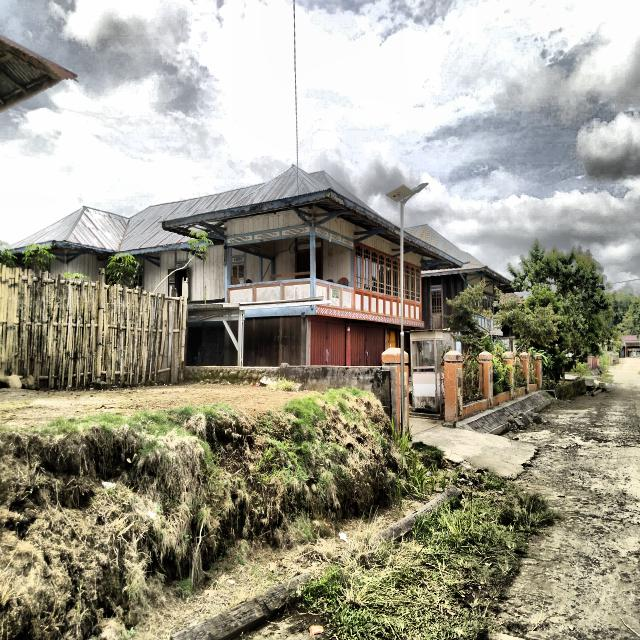column: (301, 312, 311, 366)
door: (297, 251, 321, 279), (387, 330, 396, 349)
ornamen: (282, 281, 310, 300), (254, 283, 280, 302), (228, 286, 252, 303), (330, 285, 342, 309), (316, 282, 329, 301), (343, 288, 354, 310), (355, 291, 363, 312), (363, 293, 370, 313), (371, 294, 378, 314), (379, 296, 385, 316), (386, 298, 392, 317), (404, 302, 410, 319), (393, 299, 398, 317), (416, 304, 421, 321), (411, 303, 415, 320)
roof: (10, 164, 401, 257), (403, 224, 512, 286), (403, 230, 463, 271)
wall: (355, 235, 401, 318), (243, 316, 301, 366), (421, 273, 464, 330), (237, 238, 295, 274), (227, 210, 307, 236), (188, 244, 225, 300), (310, 315, 347, 366), (350, 319, 385, 366), (323, 239, 351, 287), (144, 250, 175, 293), (403, 252, 422, 321), (320, 216, 369, 240), (246, 253, 259, 283), (262, 258, 271, 281)
window: (168, 268, 189, 301), (355, 243, 363, 290), (363, 247, 371, 292), (371, 250, 378, 294), (431, 290, 442, 314), (379, 253, 385, 295), (386, 255, 392, 297), (232, 263, 244, 284), (393, 258, 398, 298), (405, 263, 410, 301), (410, 265, 415, 302), (416, 267, 420, 303), (134, 274, 143, 288)
